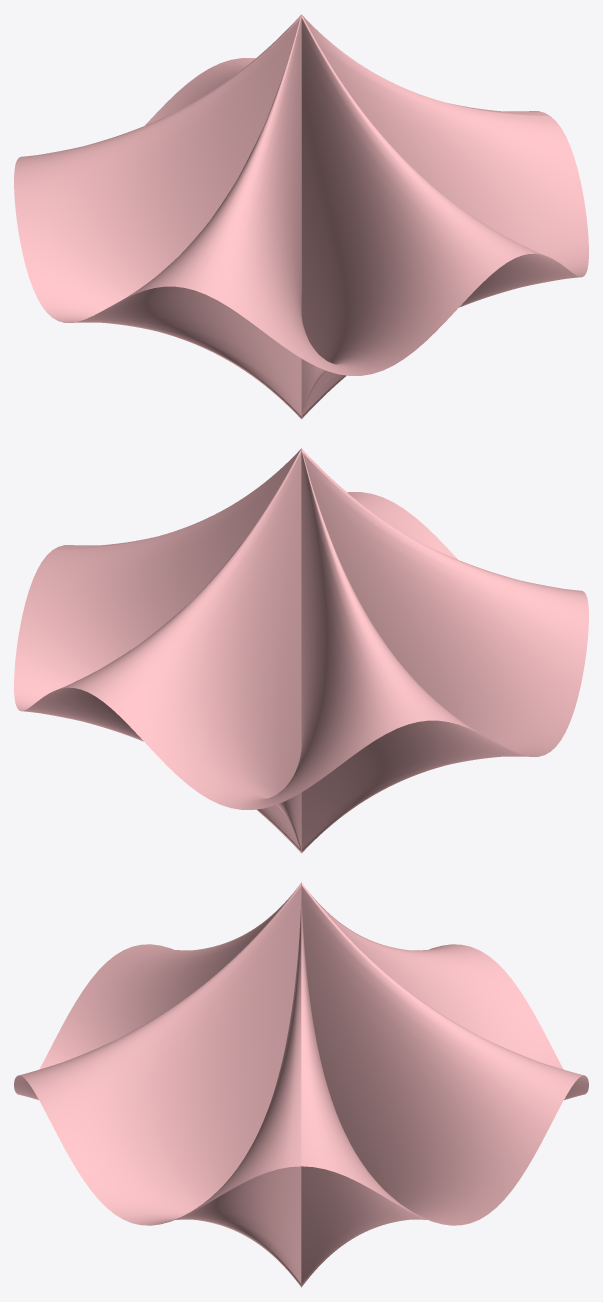
File: ex_rose_surface.glb
3 renders of one model, top to bottom at view 1: azimuth 30°, elevation 25°; view 2: azimuth 150°, elevation 25°; view 3: azimuth 270°, elevation 25°, orthographic.
Visible parts, largest first — view 1: Rose; view 2: Rose; view 3: Rose.
Boxes of the visible parts, x1,y1,x2,y2 form: Rose: (14,14,588,419); Rose: (14,448,588,853); Rose: (14,882,588,1287).
Bounding box in the file's own units: 3.6 × 2.8 × 3.6.
